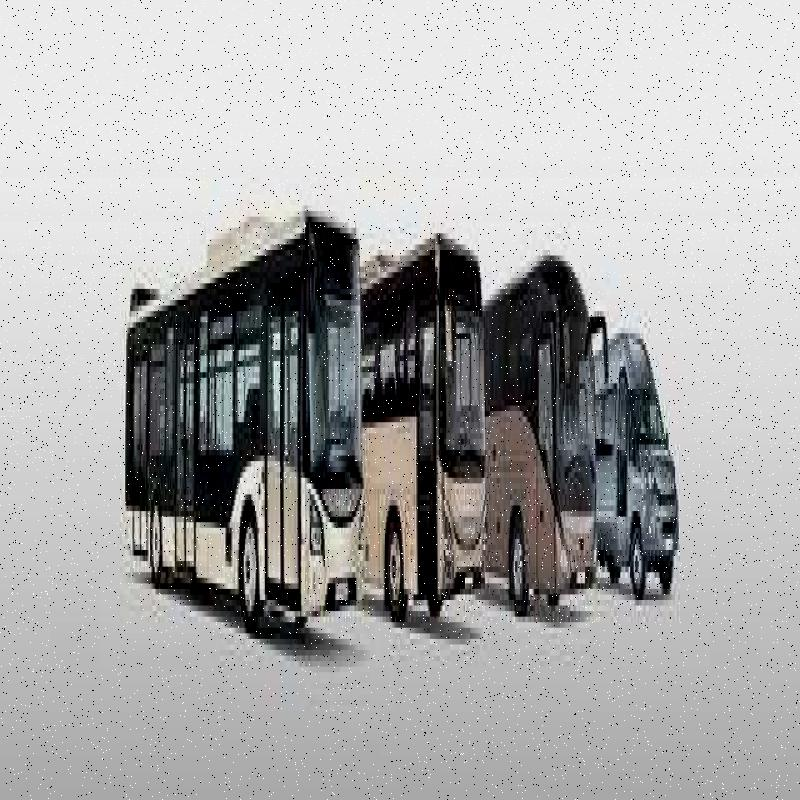bus: (126, 195, 379, 667), (374, 220, 492, 605), (492, 245, 605, 601)
